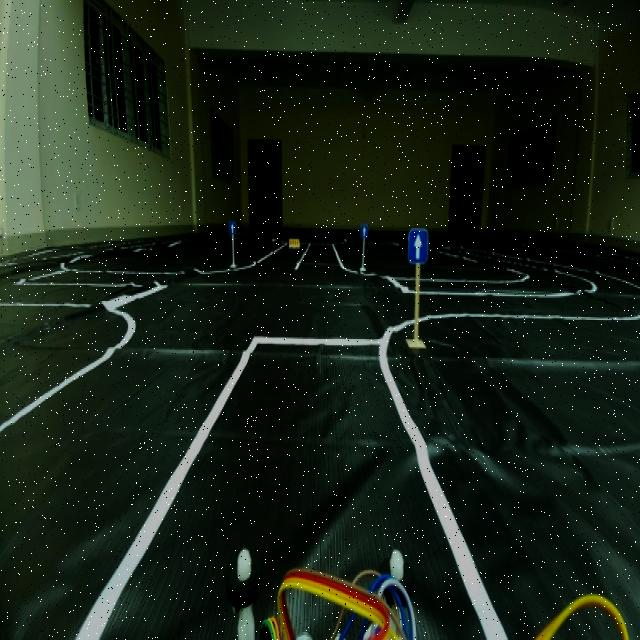onewayroad: (403, 220, 430, 268), (228, 218, 236, 233), (362, 223, 369, 238)
roadblock: (289, 233, 303, 250)
